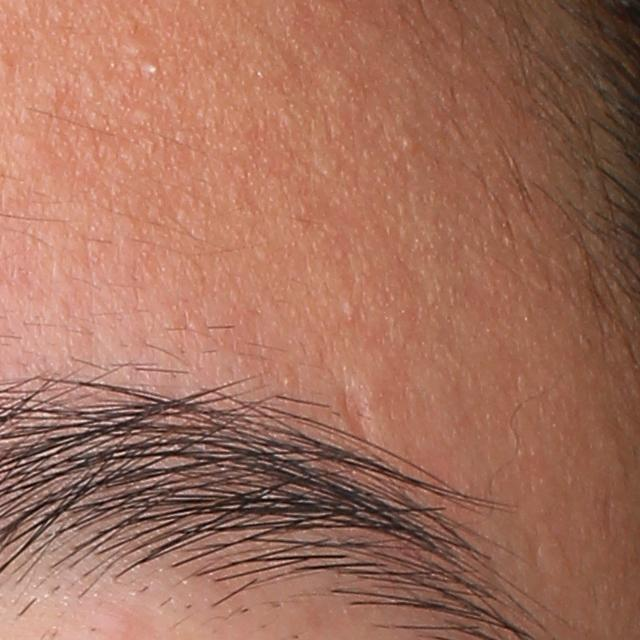atrophic_scar: (334, 377, 382, 467)
comedo: (338, 295, 360, 324), (402, 131, 418, 154), (143, 60, 162, 78)
